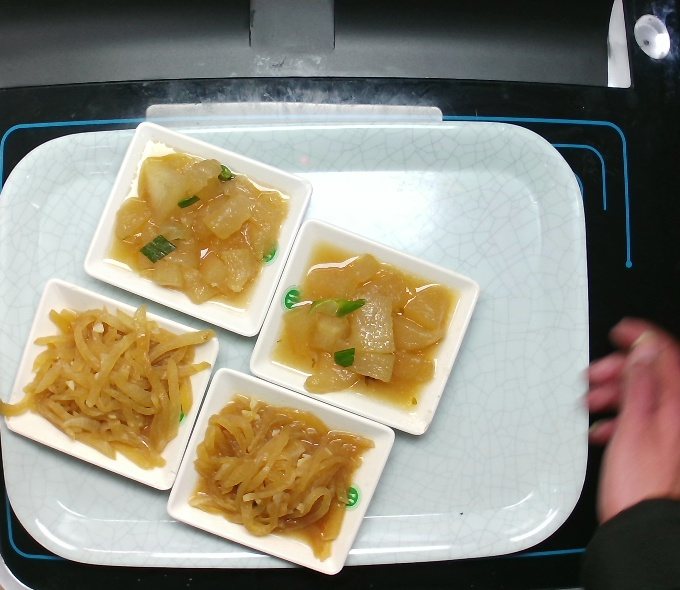wcq-DongGua: (119, 149, 276, 311), (291, 241, 448, 403)
wcq-LuoBoSi: (27, 303, 204, 461), (194, 406, 368, 547)
